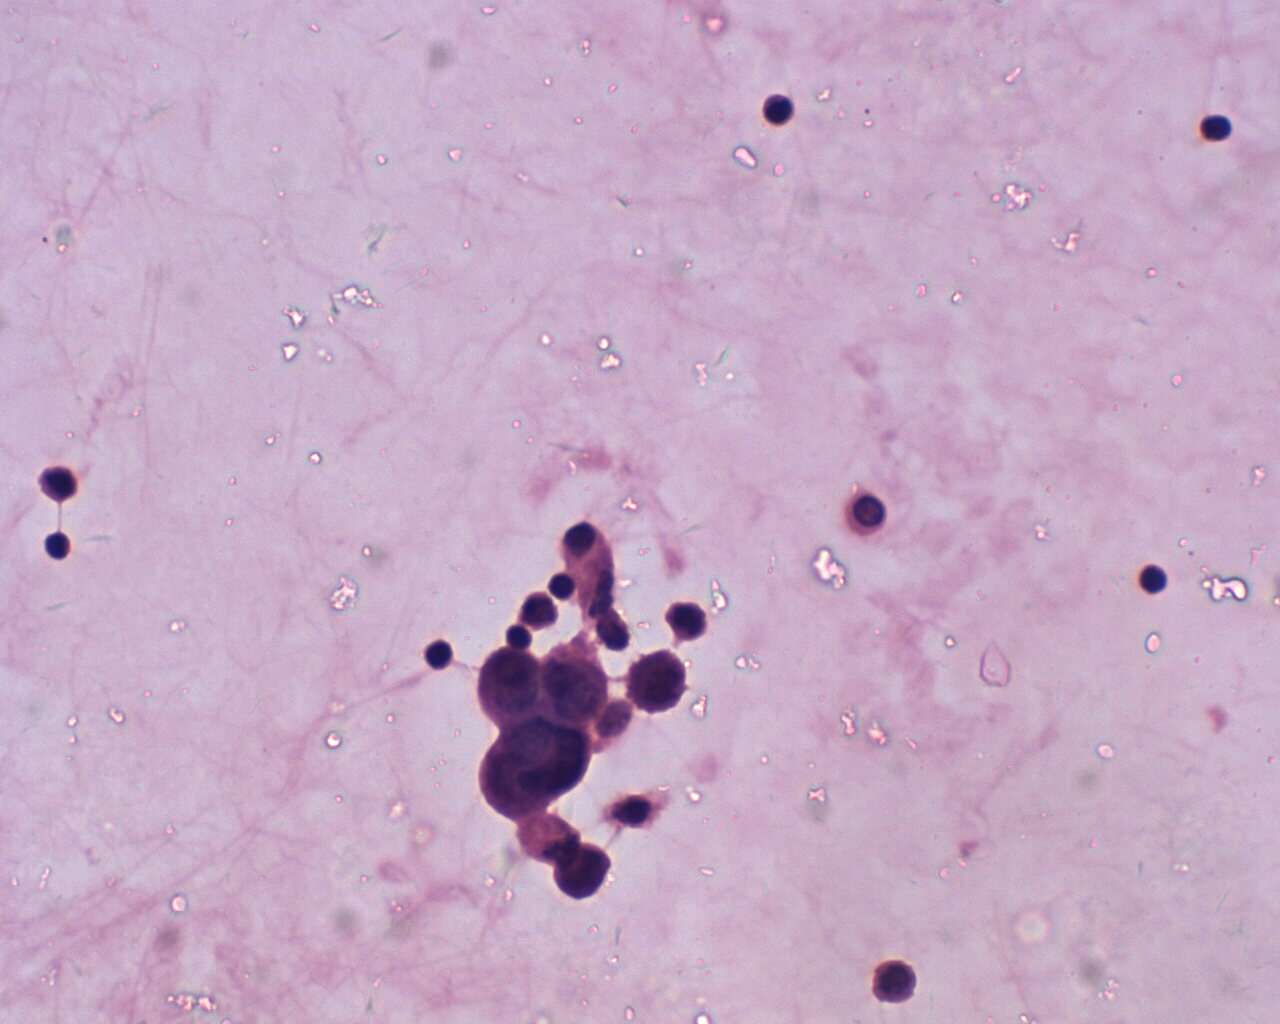ab: (468, 648, 542, 732), (542, 642, 616, 723)
lymph: (840, 492, 892, 539), (43, 526, 79, 567), (1138, 559, 1173, 599), (759, 90, 795, 127), (1198, 111, 1236, 147), (417, 638, 458, 672)
